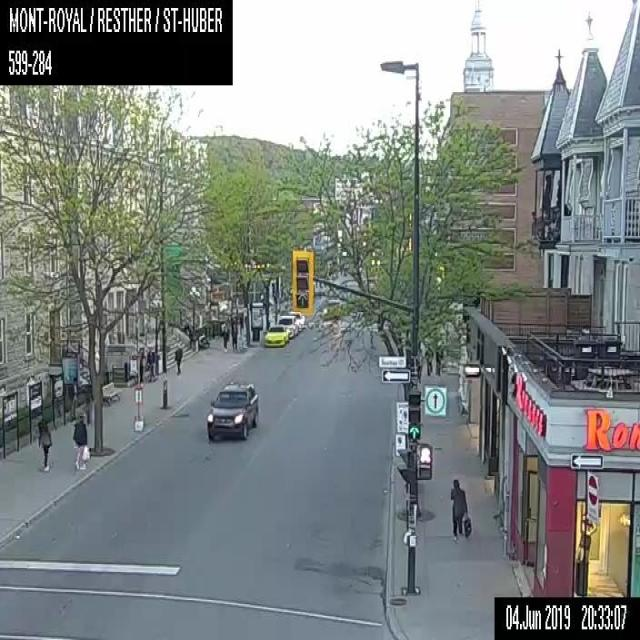pedestrian: (449, 478, 471, 542), (71, 413, 89, 469), (39, 418, 51, 469), (145, 349, 155, 382), (424, 345, 433, 375), (174, 342, 182, 373), (221, 320, 229, 351), (434, 345, 442, 375), (230, 321, 238, 351)
vehicle: (206, 382, 257, 438), (264, 325, 287, 346), (277, 314, 297, 336), (287, 310, 304, 330), (323, 298, 339, 318)
